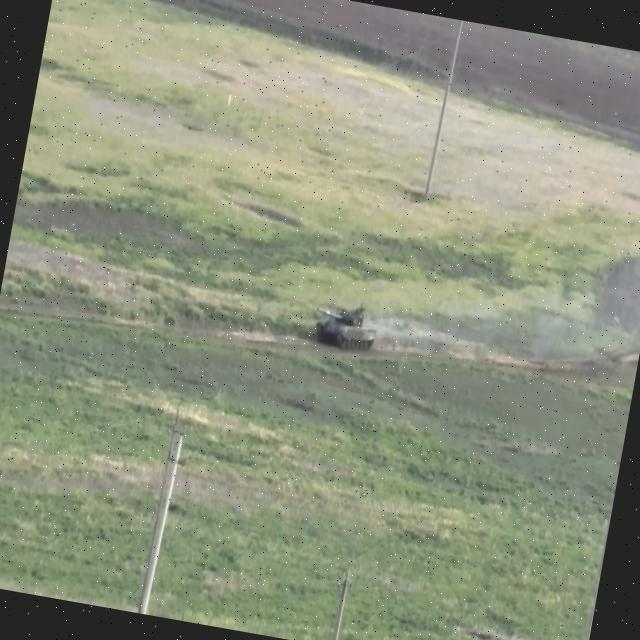MBT: (309, 295, 384, 358)
